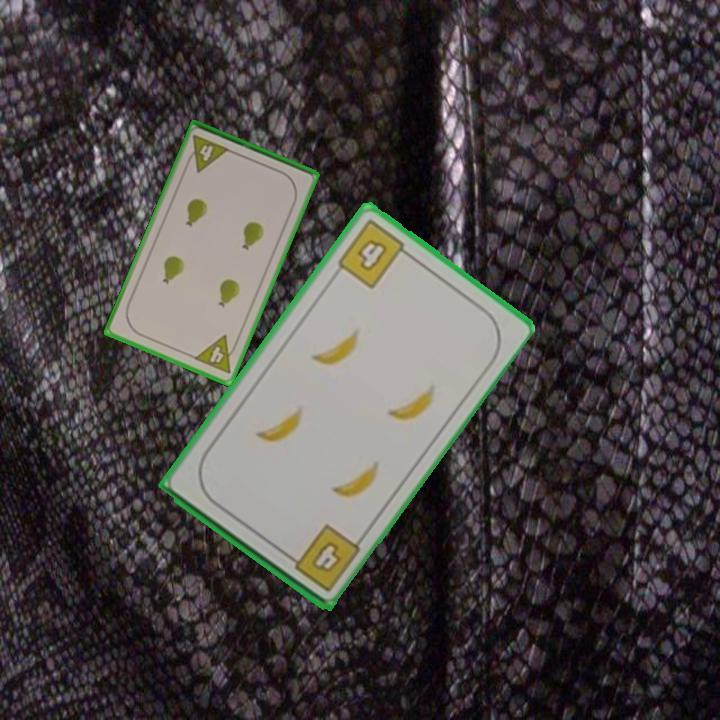4b: (333, 215, 415, 292), (281, 520, 364, 595)
4p: (190, 331, 242, 377), (182, 131, 232, 175)
